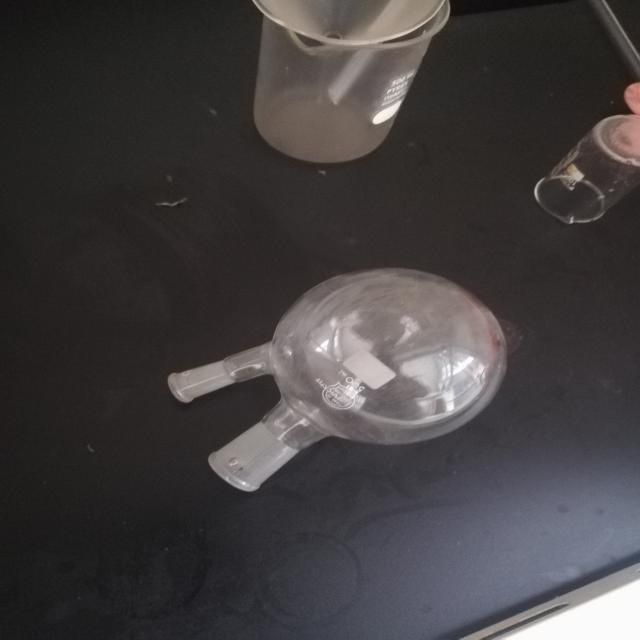Round_Bottom_Flask_Borosilicate_Glass_2_Neck: (130, 245, 538, 536)
